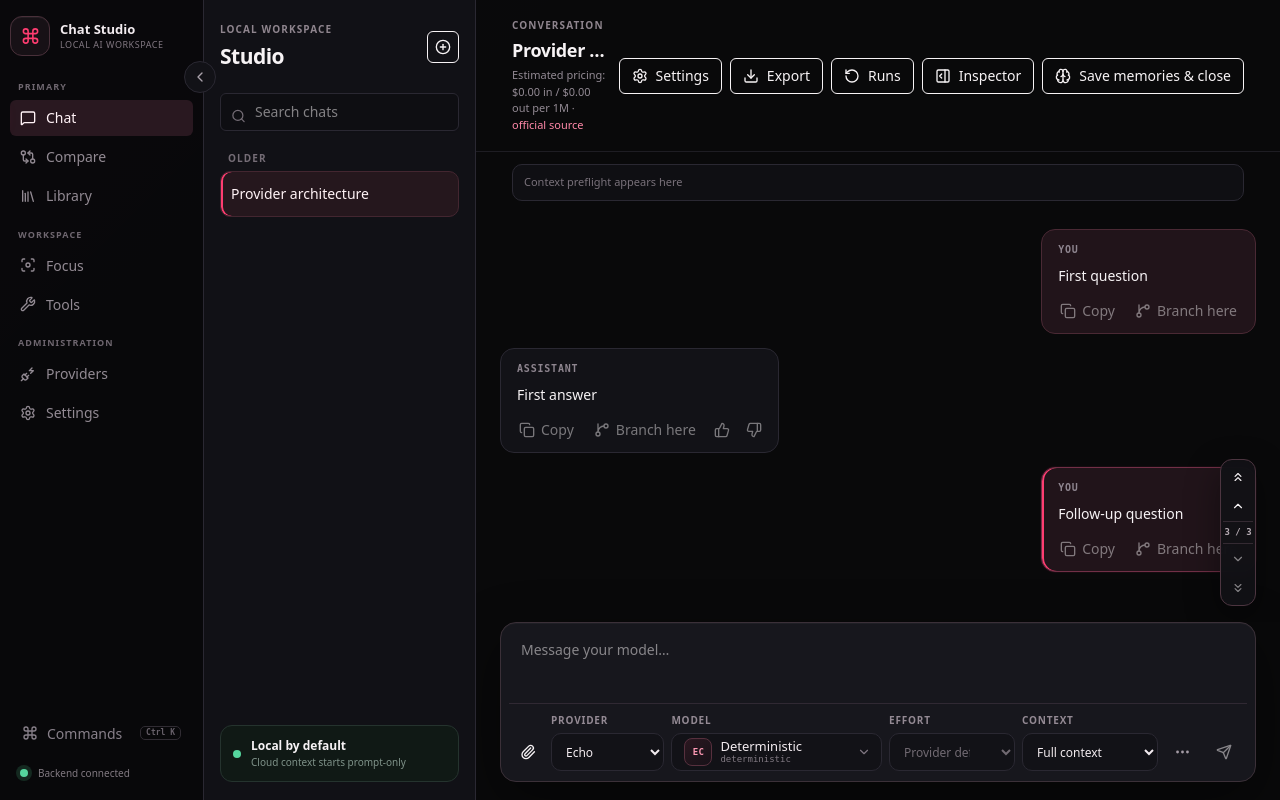
Test case: studio workspace › navigates saved chat messages with bounded previous and next controls
This screenshot has width=1280, height=800.
Expected: the heading "Provider architecture" is shown, [512,37,607,64]
Expected: the text "Backend connected" is shown, [38,766,130,780]
Click the button named "Jump to top": (1238, 477) [1224,463,1252,491]
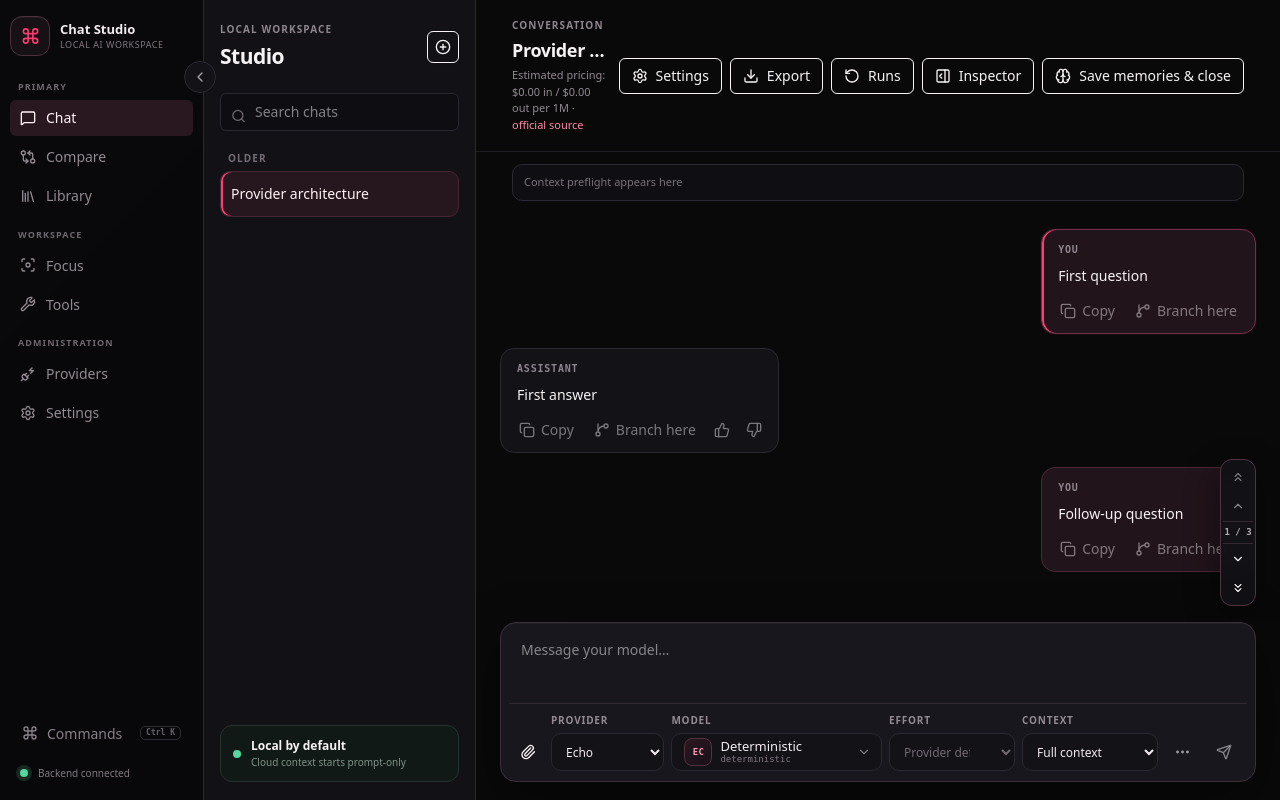
Expected: the button named "Previous message" is disabled, [1224,492,1252,520]
Now the navigation bar named "Message navigation" reads "1 / 3", box [1224,527,1252,537]
Click the button named "Next message": (1238, 559) [1224,545,1252,573]
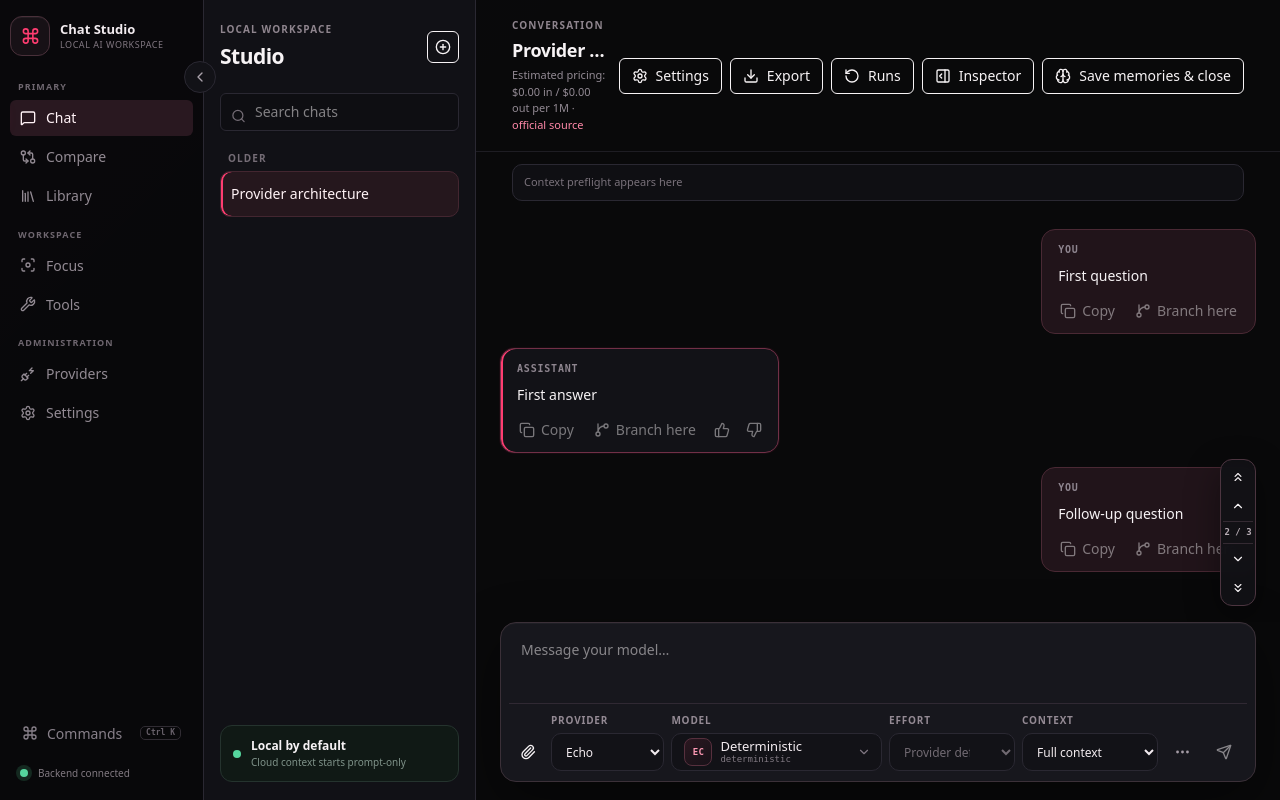
Now the navigation bar named "Message navigation" reads "2 / 3", box [1224,527,1252,537]
Click the button named "Previous message": (1238, 506) [1224,492,1252,520]
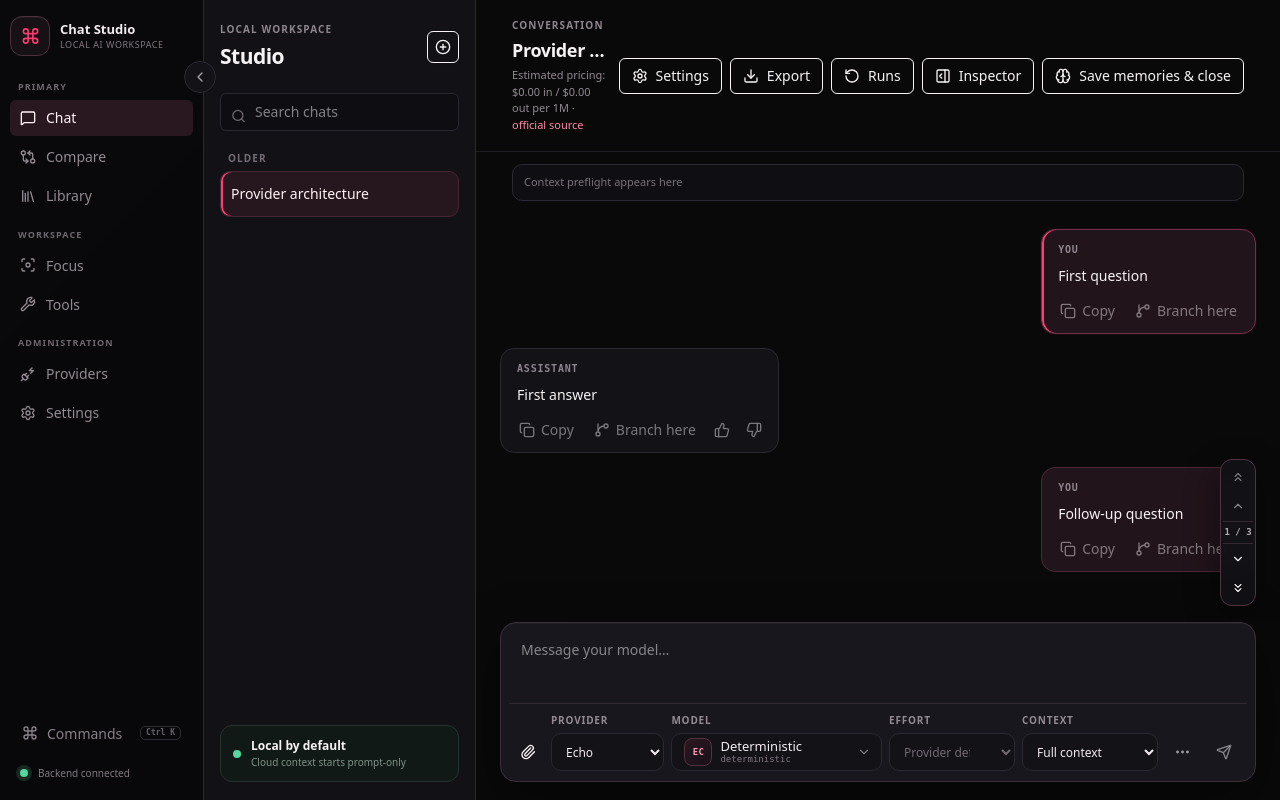
Now the navigation bar named "Message navigation" reads "1 / 3", box [1224,527,1252,537]
Click the button named "Jump to bottom": (1238, 588) [1224,574,1252,602]
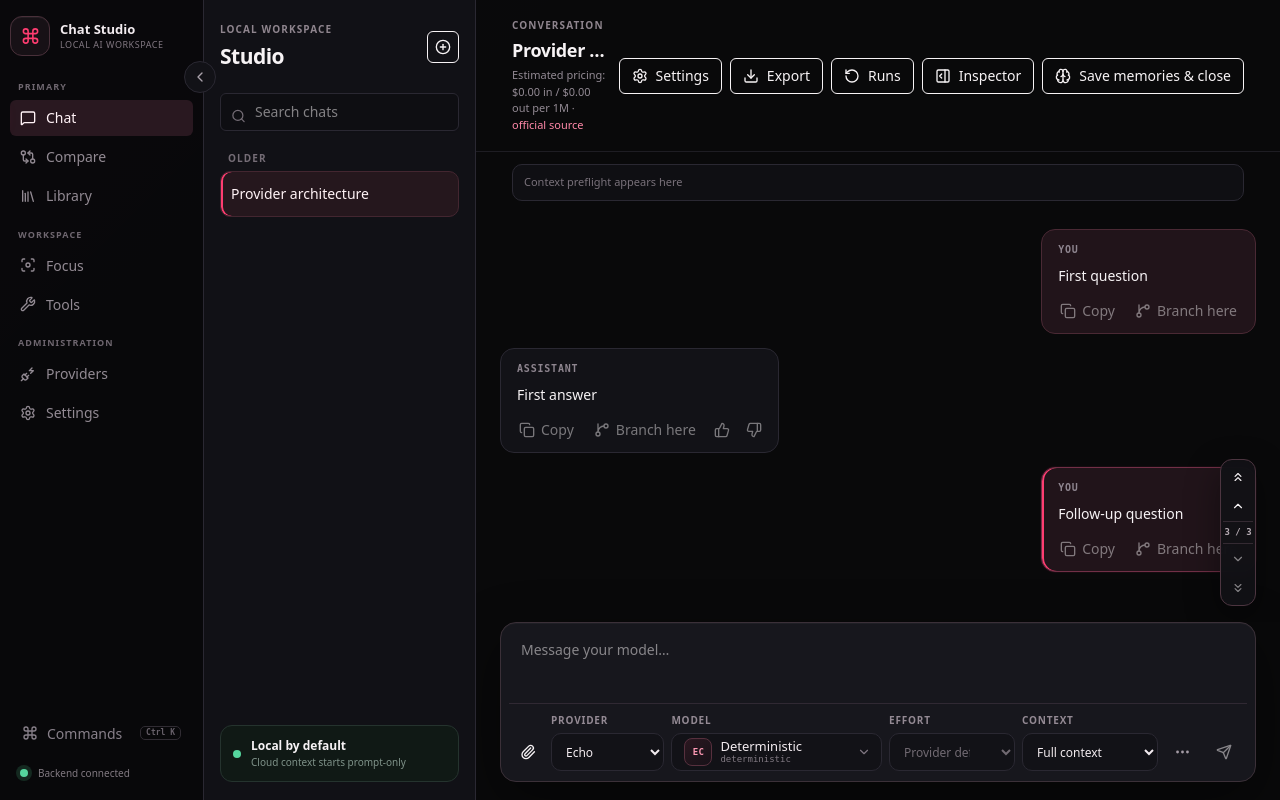
Now the navigation bar named "Message navigation" reads "3 / 3", box [1224,527,1252,537]
